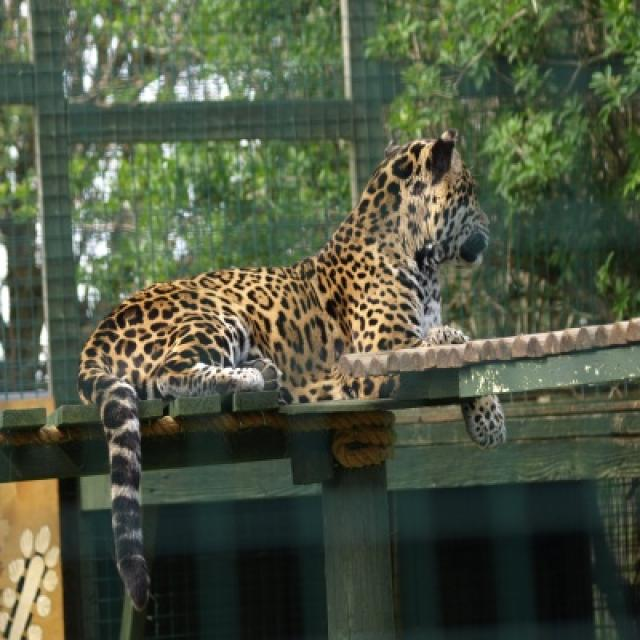Jaguar: (77, 130, 490, 614)
